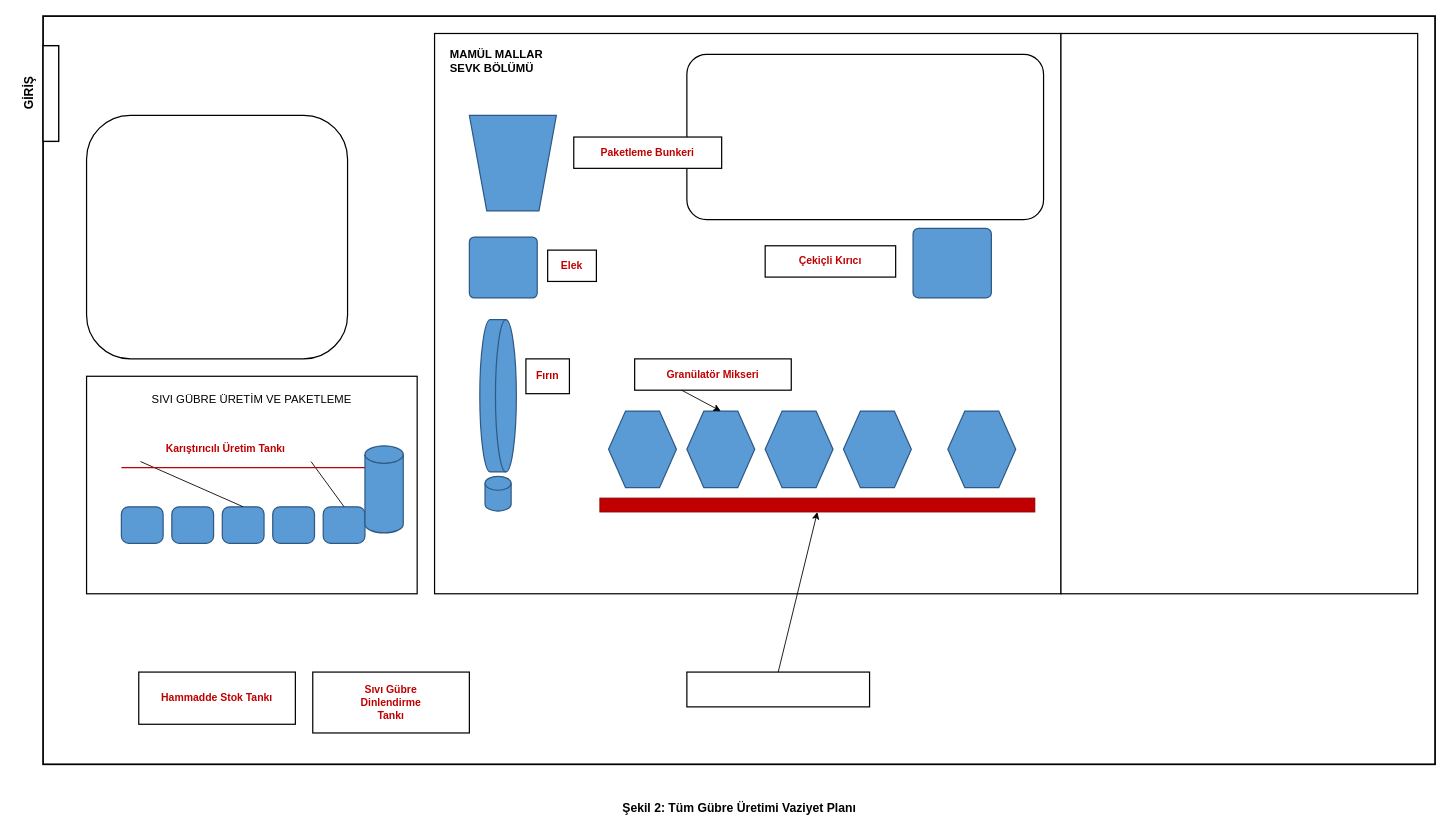
Image size: 1450x836. Some labels were removed from this diagram. Each missing label, with the centre of its shape:
"İDARİ BÜRO" belongs at point (217, 236).
"KATI ORGANİK GÜBRE STOKLAMA" belongs at point (1239, 313).
"Lastik Bantlı Konveyör" belongs at point (778, 689).
"ÇUVALLI MAMUL MALLAR STOK" belongs at point (865, 136).
